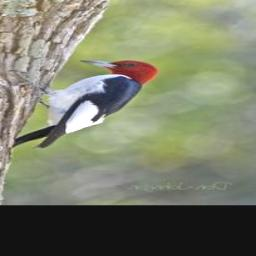Woodpecker: (4, 56, 164, 150)
